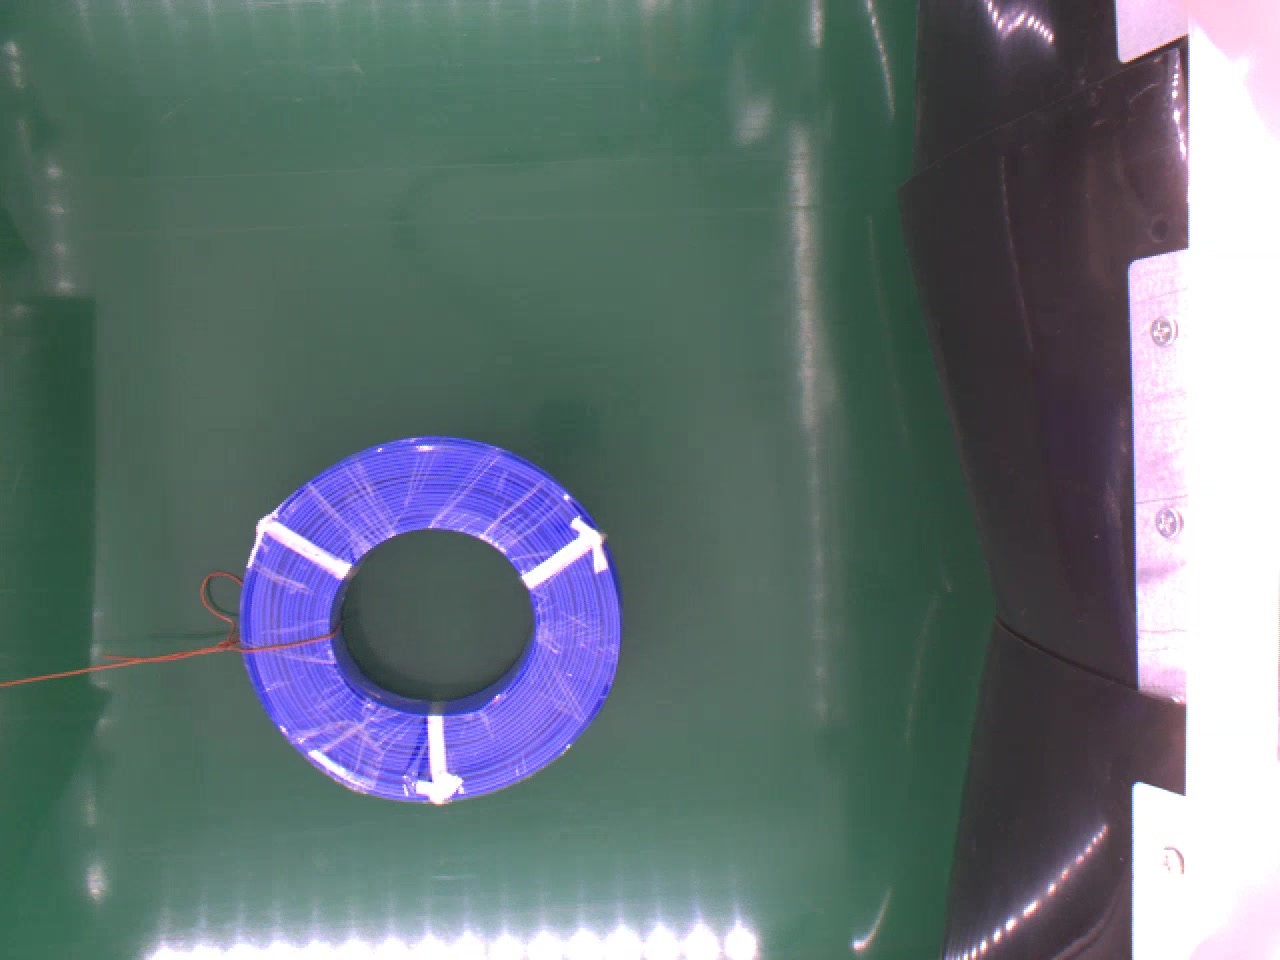blue: (237, 432, 626, 806)
